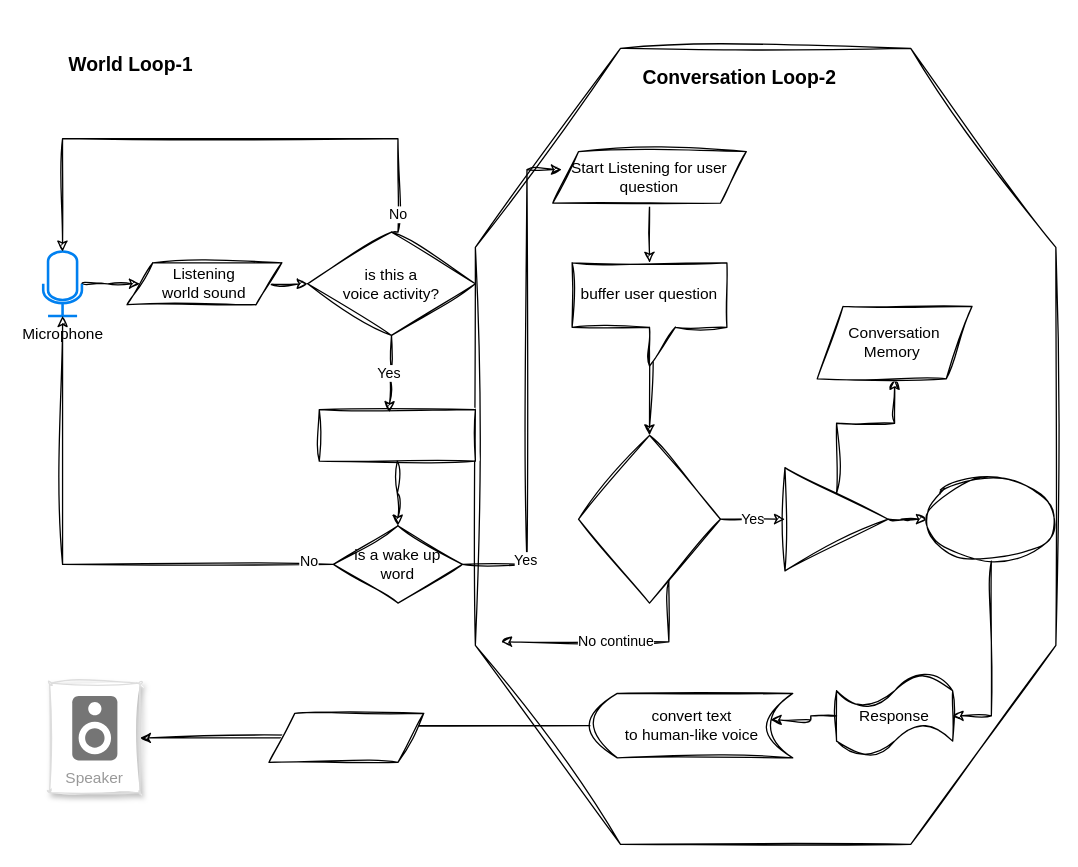
Some shapes in this 1078 by 867 pixel diagram are drawn without their labels. Each missing label, with the centre of its shape:
"Is user complete the question" belongs at (x=648, y=518).
"LLM" belongs at (x=991, y=518).
"Play audio" belongs at (x=346, y=737).
"Send to LLM" belongs at (x=836, y=518).
"Transcribe to text" belongs at (x=396, y=434).
